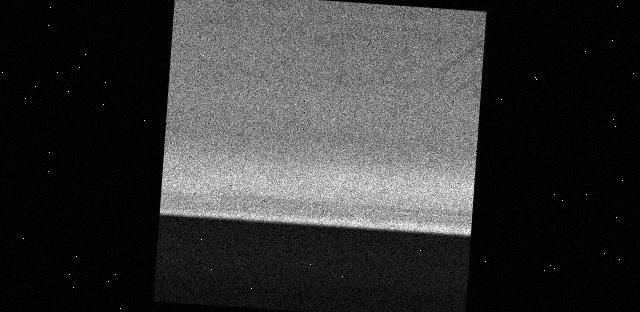silk_spot: (204, 0, 415, 114)
water_spot: (426, 22, 486, 102)
